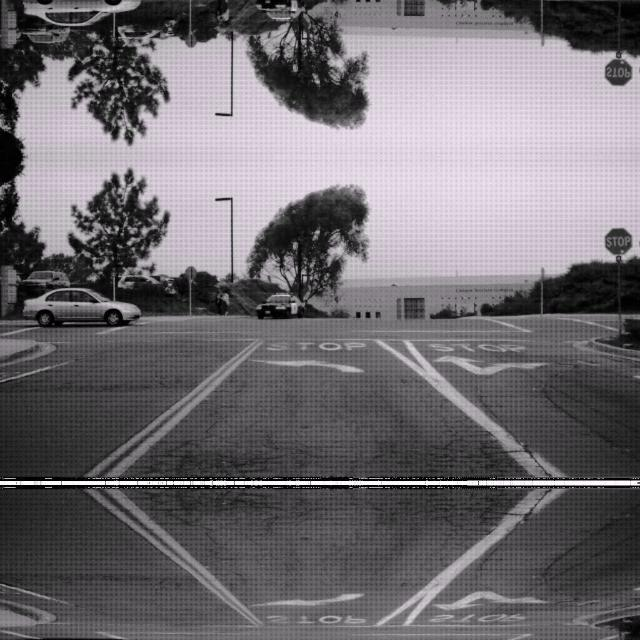stop: (604, 226, 632, 254), (604, 58, 632, 86)
